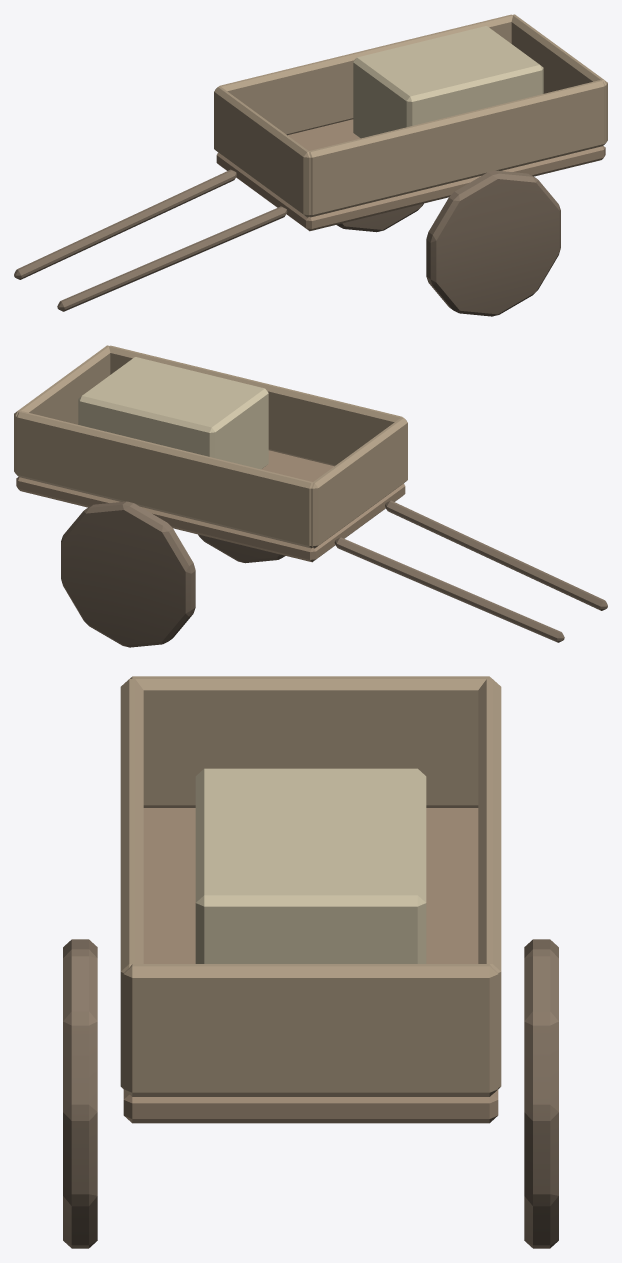
Rendered from iv_cart.glb.
3 renders of one model, top to bottom at view 1: azimuth 30°, elevation 25°; view 2: azimuth 150°, elevation 25°; view 3: azimuth 270°, elevation 25°, orthographic. The views are drawn at different scales.
Visible parts, largest first — view 1: iv_cart; view 2: iv_cart; view 3: iv_cart.
Boxes of the visible parts, <box> form: iv_cart: <box>14,14,607,316</box>; iv_cart: <box>14,345,607,647</box>; iv_cart: <box>63,676,558,1248</box>.
Bounding box in the file's own units: 4.22 × 1.59 × 1.72.
